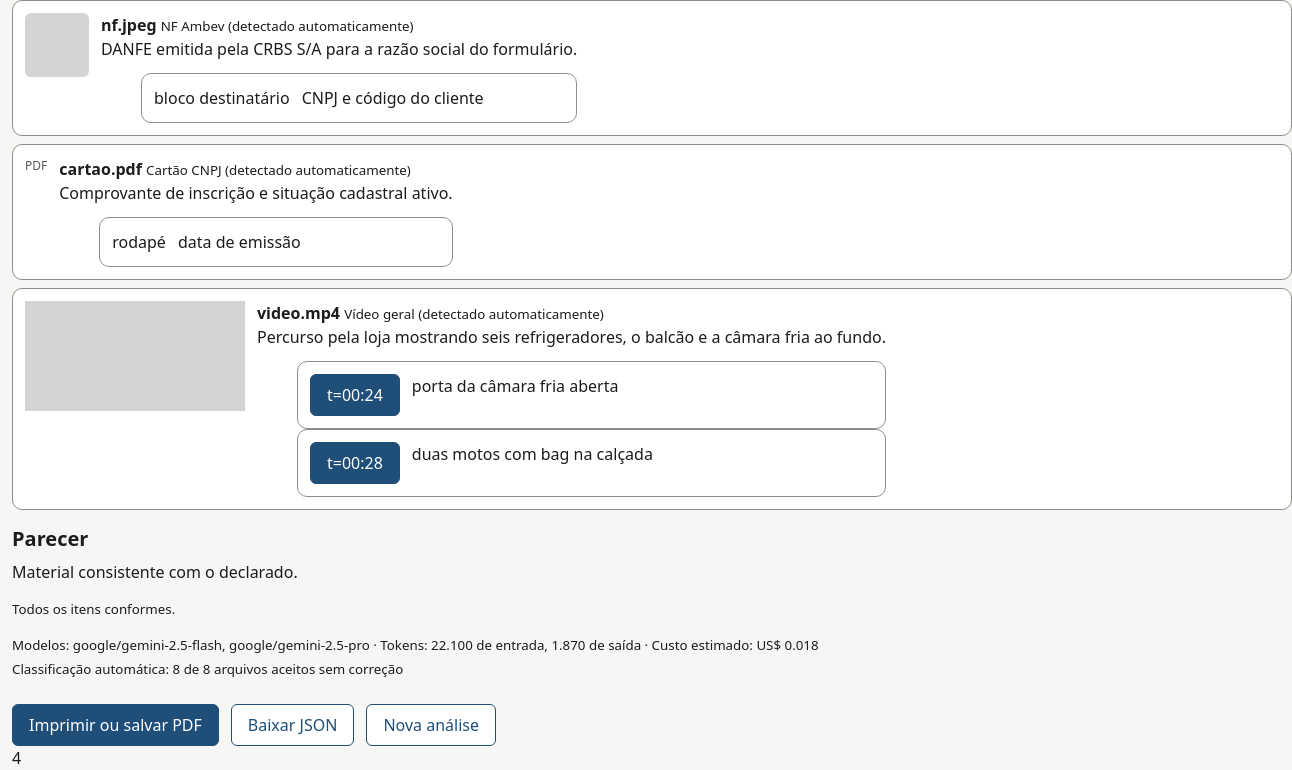
Test case: EtapaRelatorio › nova análise volta à etapa 1
(page scrolled)
Click the button "Nova análise" at x=431, y=725, box [366, 704, 496, 746]
(page scrolled)
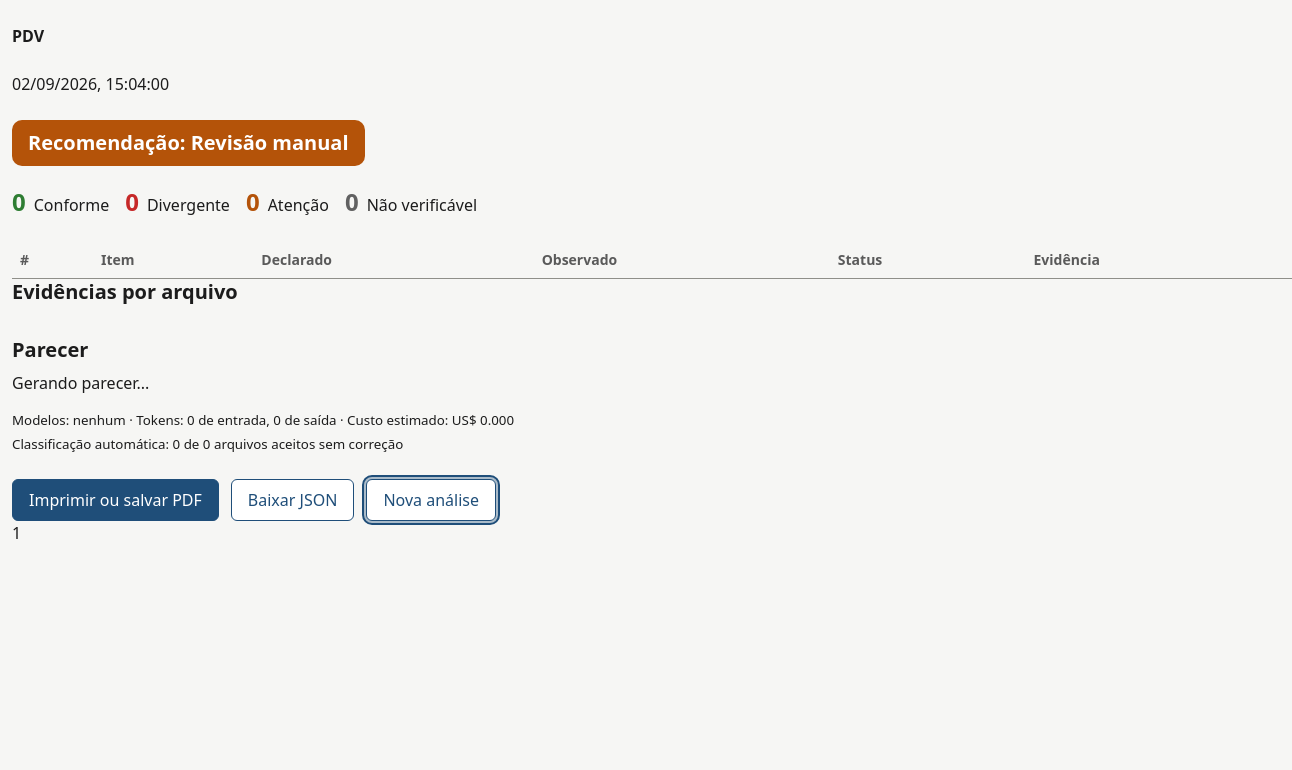
Expected: the text with test id "etapa" reads "1", [12, 522, 21, 544]
